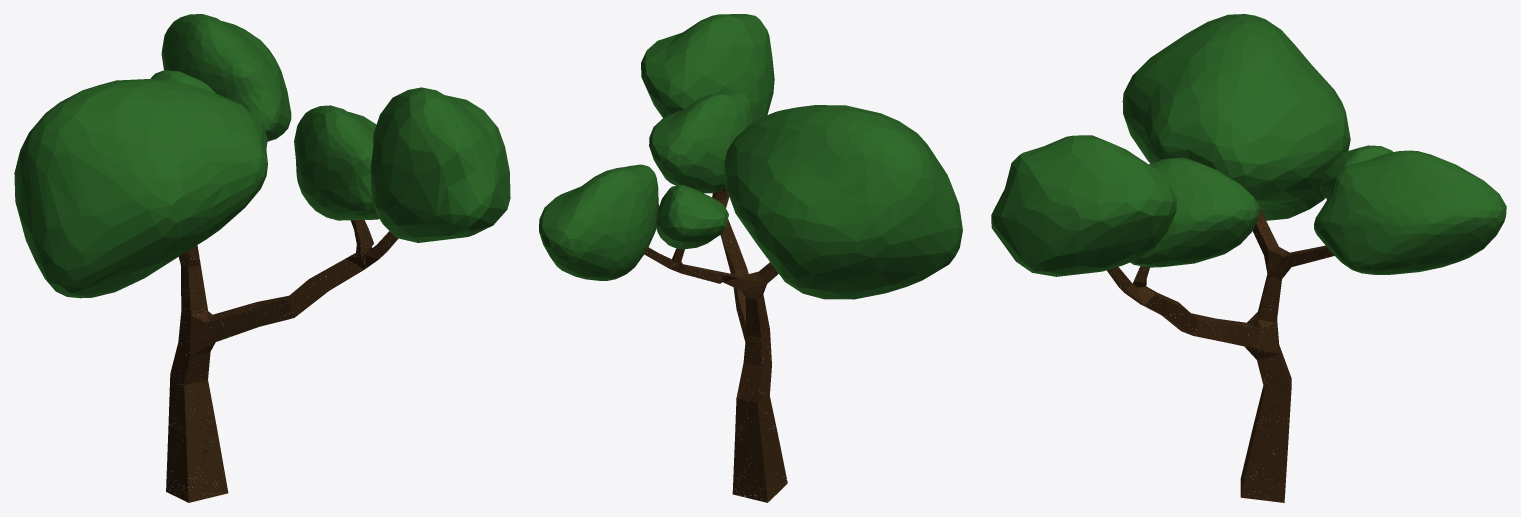
File: SpiderTree.fbx
The picture shows the model from 3 angles, left to right: view 1: azimuth 30°, elevation 25°; view 2: azimuth 150°, elevation 25°; view 3: azimuth 270°, elevation 25°; orthographic projection. The views are drawn at different scales.
Visible parts, largest first — view 1: SpiderTree; view 2: SpiderTree; view 3: SpiderTree.
Part boxes in pixels (x1=…): SpiderTree: x1=14, y1=14, x2=510, y2=502; SpiderTree: x1=539, y1=14, x2=962, y2=502; SpiderTree: x1=991, y1=14, x2=1506, y2=502.
Size of the model in its own units: 1681 by 1761 by 1942.
